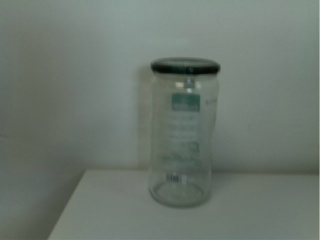pote cristal: (144, 54, 226, 210)
